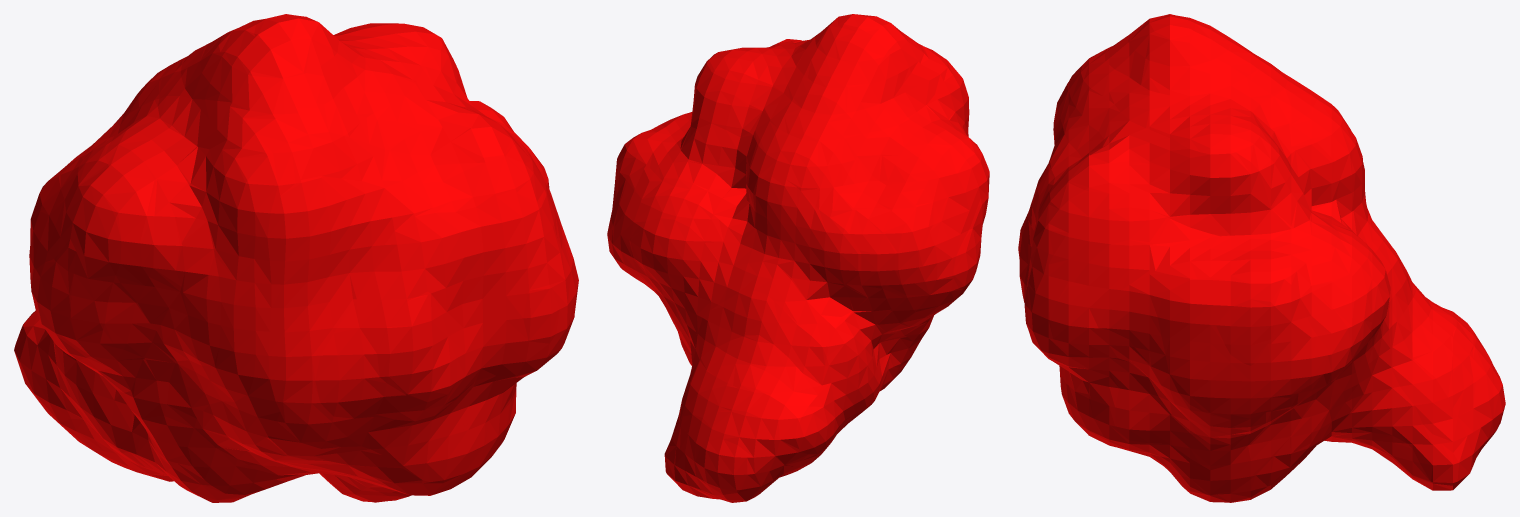
Rendered from kdsB_coarse.dae.
The picture shows the model from 3 angles, left to right: view 1: azimuth 30°, elevation 25°; view 2: azimuth 150°, elevation 25°; view 3: azimuth 270°, elevation 25°; orthographic projection. The views are drawn at different scales.
Parts seen in each view (by area): view 1: kdsB; view 2: kdsB; view 3: kdsB.
Boxes of the visible parts, x1,y1,x2,y2 form: kdsB: (14,14,578,502); kdsB: (607,14,989,502); kdsB: (1018,14,1505,502).
Bounding box in the file's own units: 48.49 × 53.82 × 53.08.
